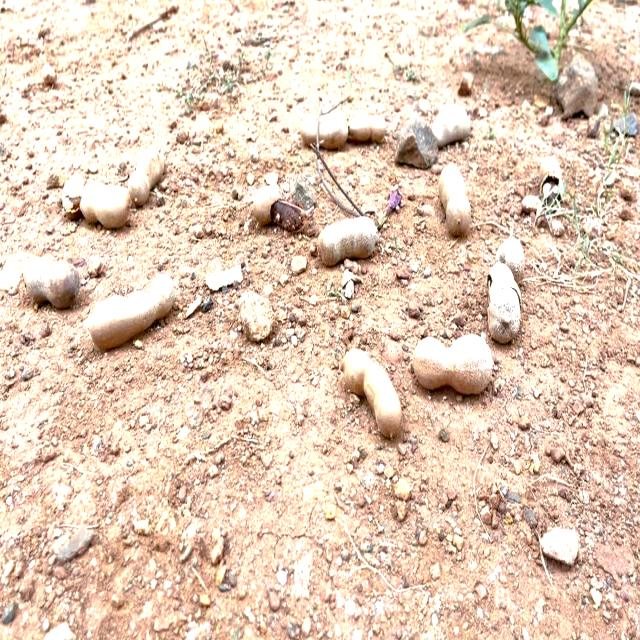tamarind: (90, 270, 178, 354), (339, 346, 403, 437), (412, 334, 495, 400), (302, 107, 391, 159), (19, 252, 83, 324), (60, 170, 132, 233), (483, 262, 525, 346), (318, 213, 379, 264), (128, 145, 167, 210), (442, 163, 471, 238), (495, 224, 526, 286)
